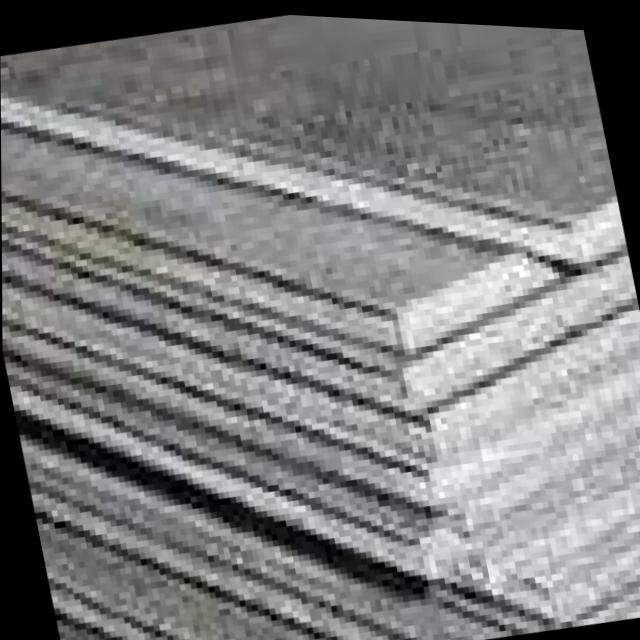metal-plates: (1, 13, 640, 640)
